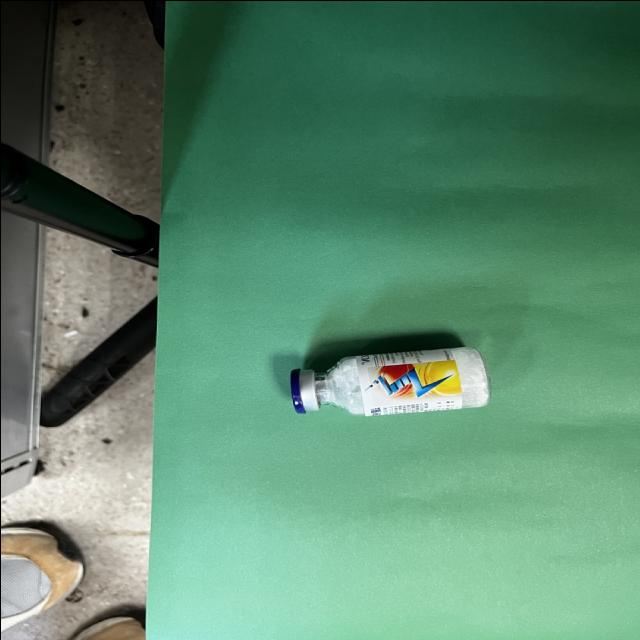Vials: (289, 344, 489, 416)
